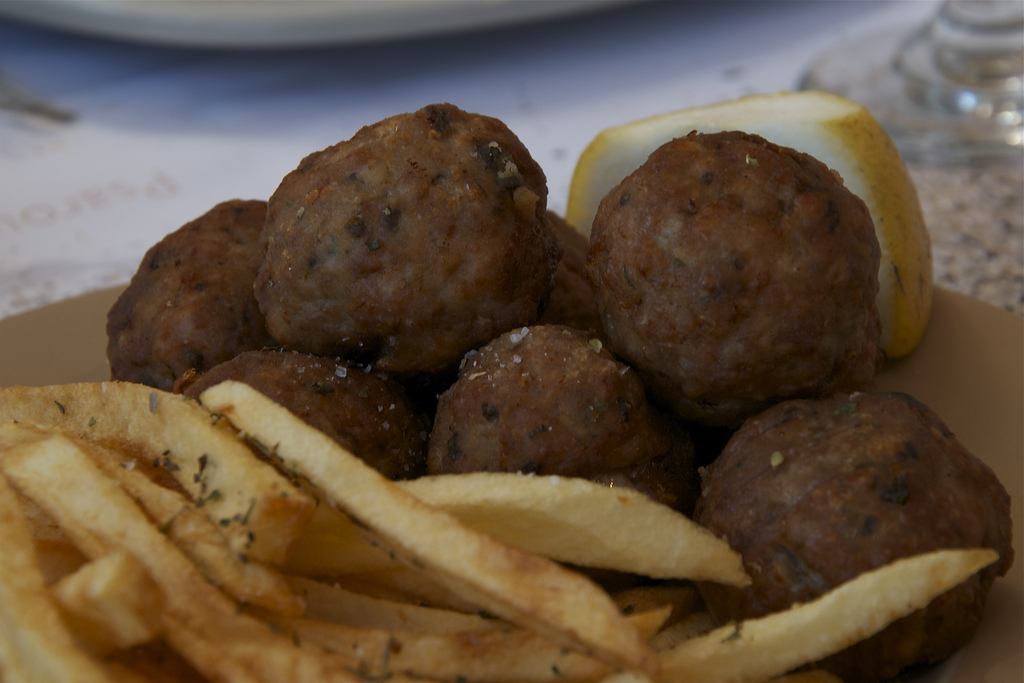meatballs: (597, 135, 890, 394), (255, 112, 558, 345), (694, 387, 998, 612), (445, 336, 663, 516), (90, 186, 271, 378), (204, 347, 430, 478)
